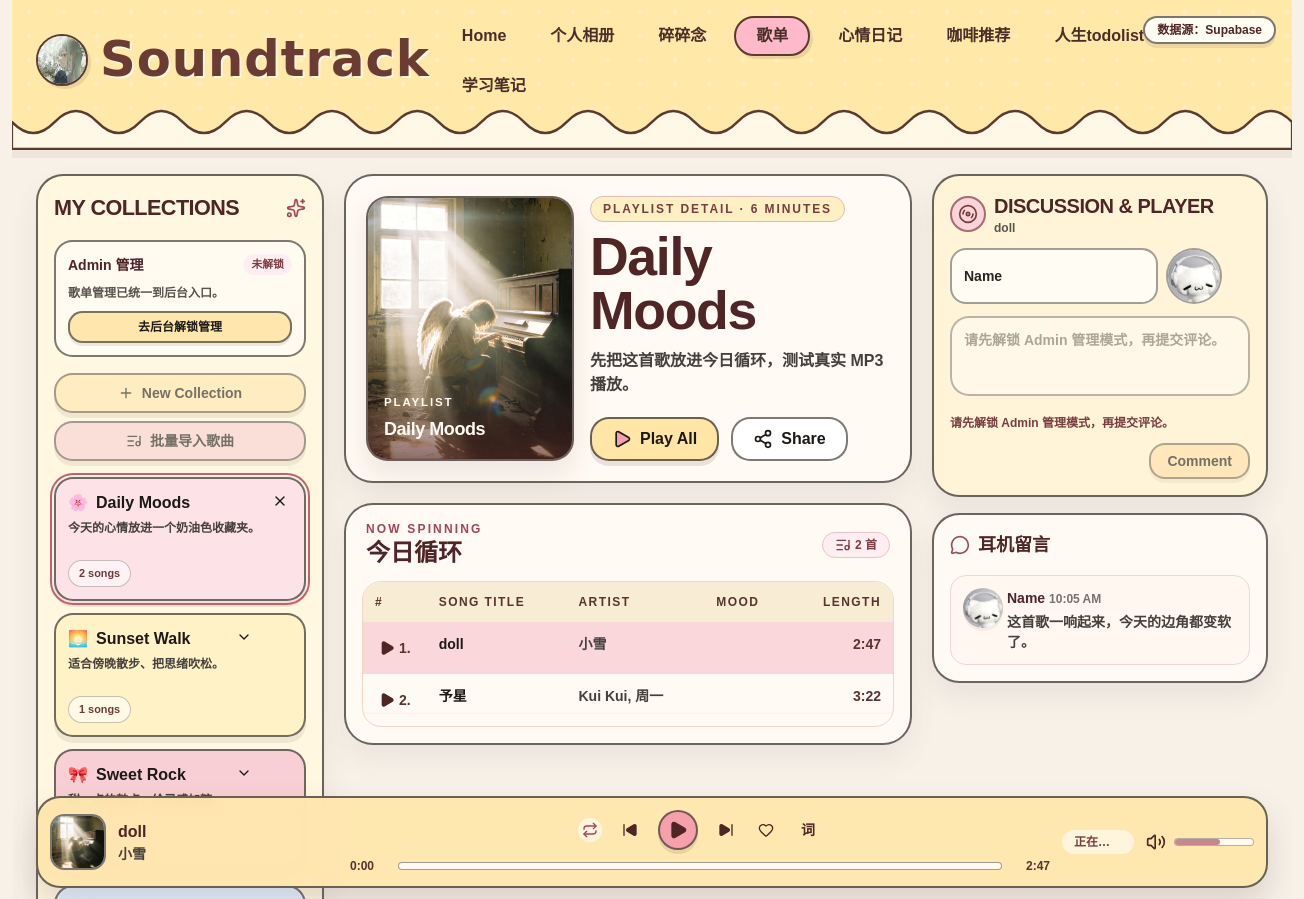
Test: PlaylistsPageView › switches the right panel to lyrics from the bottom player
Click the button named "打开歌词" at (808, 830), box [794,816,822,844]
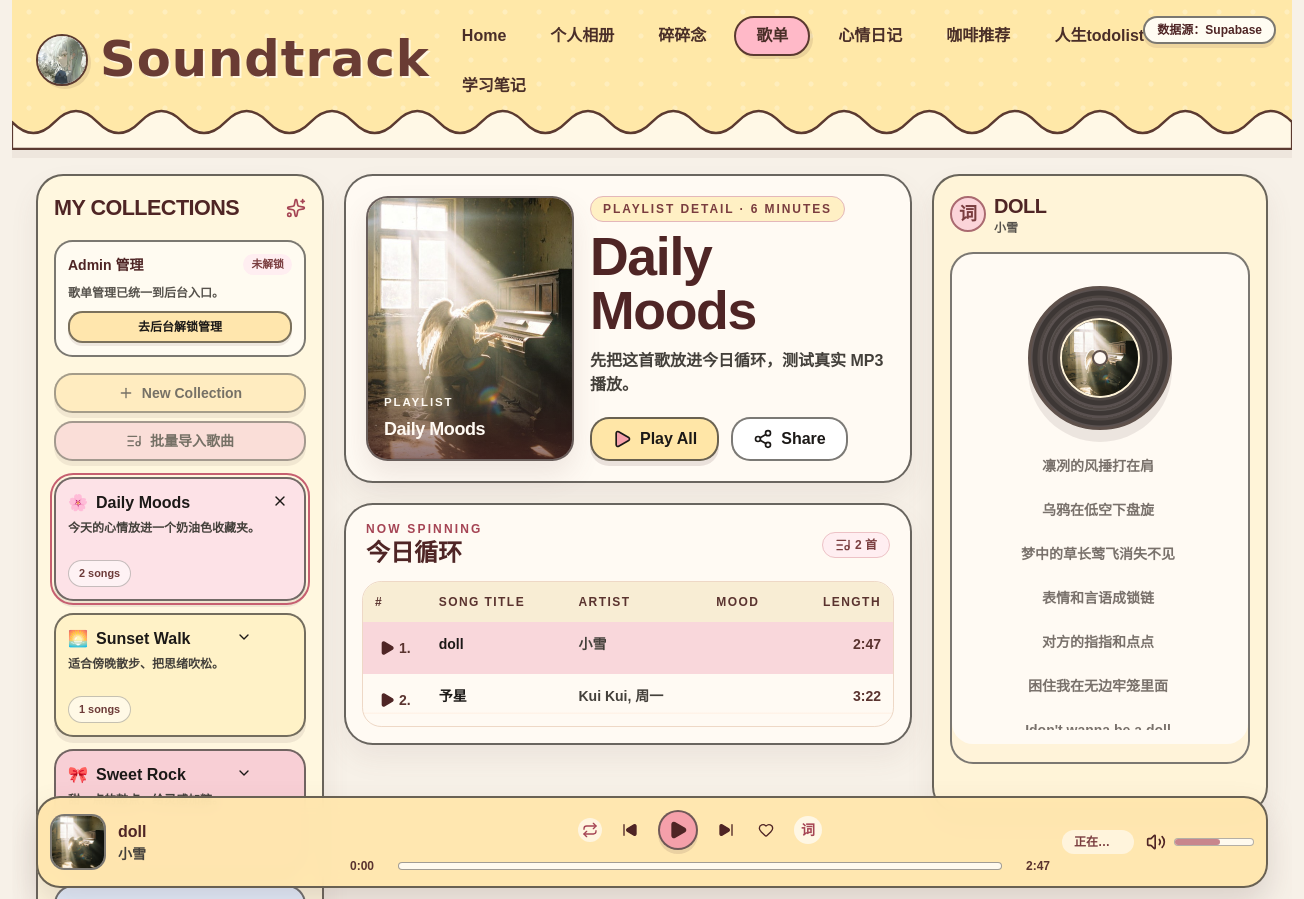
Check: the field labelled "耳机留言播放器" is gone
Check: the heading "doll" in the row of "6 minutes" is shown, box [994,192,1046,220]
Check: the text "小雪" below "Playlist detail ·" is shown, box [994,221,1018,235]
